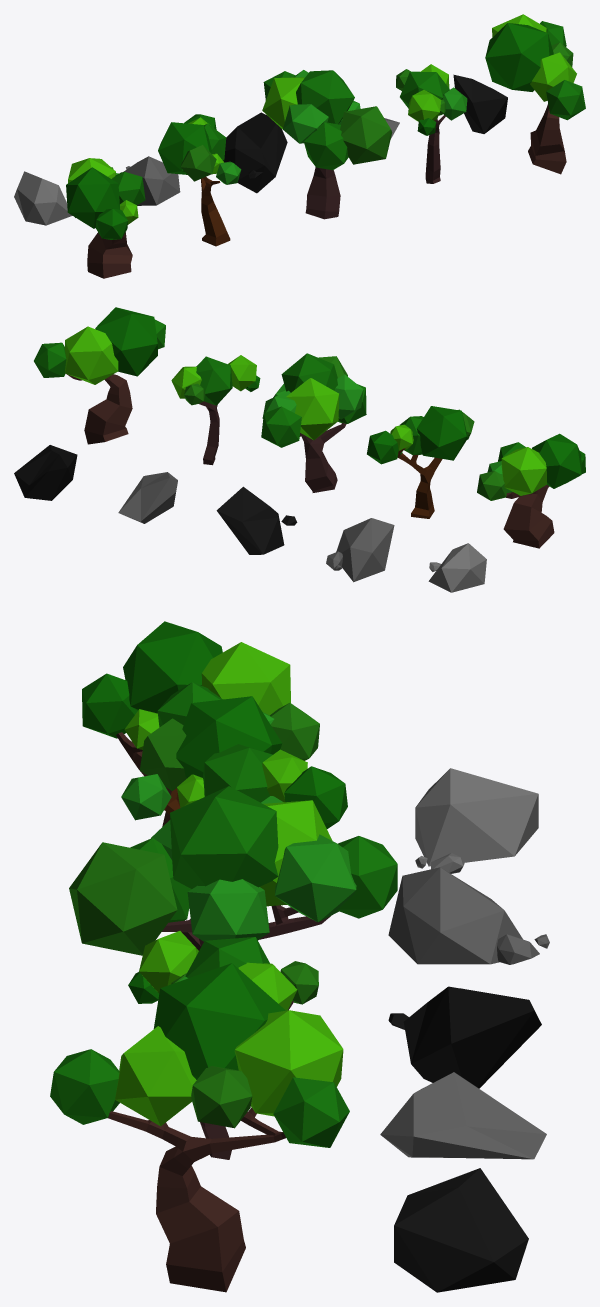
File: Tree low poly with rocks.glb
3 views of the same model, one above another, from view 1: azimuth 30°, elevation 25°; view 2: azimuth 150°, elevation 25°; view 3: azimuth 270°, elevation 25° (orthographic). The views are drawn at different scales.
Parts seen in each view (by area): view 1: Icosphere.025, Icosphere.037, Icosphere.014, Icosphere.019, Icosphere.024, Icosphere.013, Icosphere.034, Icosphere.004, Cube.004, Cube.002, Icosphere.023, Icosphere.015 (+18 smaller); view 2: Icosphere.025, Icosphere.023, Icosphere.037, Icosphere.034, Icosphere.036, Cube.004, Icosphere.004, Cube.002, Icosphere.010, Icosphere.024, Icosphere.033, Icosphere.017 (+16 smaller); view 3: Icosphere.034, Cube.004, Icosphere.023, Icosphere.025, Icosphere.024, Icosphere.033, Icosphere.014, Icosphere.013, Icosphere.037, Icosphere.036, Icosphere.019, Icosphere.039 (+24 smaller).
Boxes of the visible parts, x1,y1,x2,y2 form: Icosphere.025: [223, 112, 287, 193]; Icosphere.037: [485, 23, 553, 91]; Icosphere.014: [340, 106, 392, 164]; Icosphere.019: [66, 167, 120, 228]; Icosphere.024: [14, 171, 75, 225]; Icosphere.013: [296, 70, 354, 124]; Icosphere.034: [453, 74, 507, 133]; Icosphere.004: [158, 122, 211, 174]; Cube.004: [528, 103, 566, 174]; Cube.002: [87, 232, 132, 278]; Icosphere.023: [123, 156, 180, 205]; Icosphere.015: [304, 122, 348, 170]; Icosphere.025: [216, 486, 297, 554]; Icosphere.023: [326, 518, 394, 582]; Icosphere.037: [95, 307, 157, 376]; Icosphere.034: [14, 445, 77, 500]; Icosphere.036: [65, 326, 118, 384]; Cube.004: [66, 374, 132, 444]; Icosphere.004: [417, 406, 467, 460]; Cube.002: [503, 485, 554, 548]; Icosphere.010: [286, 378, 339, 440]; Icosphere.024: [428, 543, 486, 592]; Icosphere.033: [118, 472, 177, 523]; Icosphere.017: [501, 447, 546, 495]; Icosphere.034: [394, 1168, 528, 1292]; Cube.004: [108, 1107, 285, 1292]; Icosphere.023: [388, 867, 549, 964]; Icosphere.025: [388, 986, 541, 1088]; Icosphere.024: [415, 768, 538, 873]; Icosphere.033: [380, 1072, 546, 1159]; Icosphere.014: [69, 842, 177, 955]; Icosphere.013: [170, 786, 278, 888]; Icosphere.037: [153, 963, 285, 1079]; Icosphere.036: [234, 1010, 343, 1116]; Icosphere.019: [123, 621, 222, 713]; Icosphere.039: [115, 1026, 196, 1126].
Bounding box in the file's own units: 48.38 × 14.01 × 20.54.
